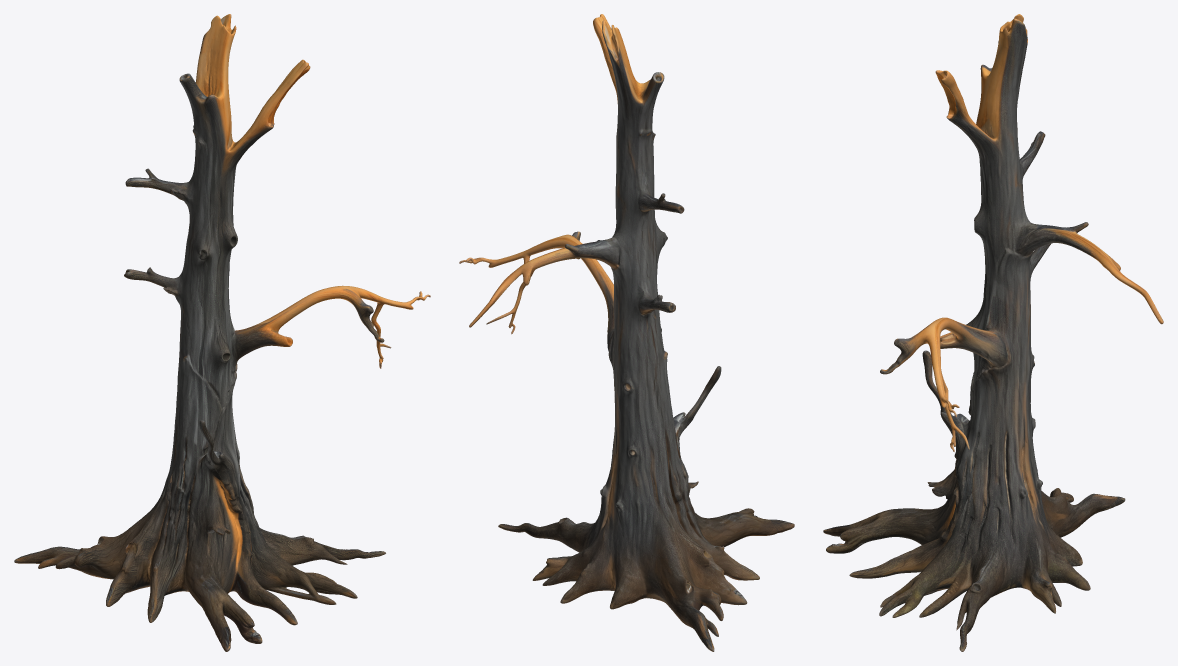
Rendered from snag.glb.
3 renders of one model, left to right at view 1: azimuth 30°, elevation 25°; view 2: azimuth 150°, elevation 25°; view 3: azimuth 270°, elevation 25°, orthographic. The views are drawn at different scales.
Bounding box in the file's own units: 1.2 × 1.9 × 1.03.
1 material, 1 textured.
